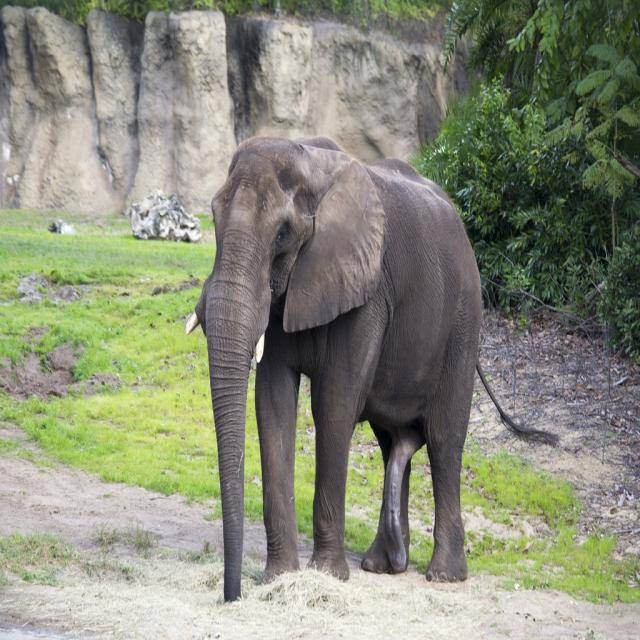Elephant: (184, 134, 558, 604)
